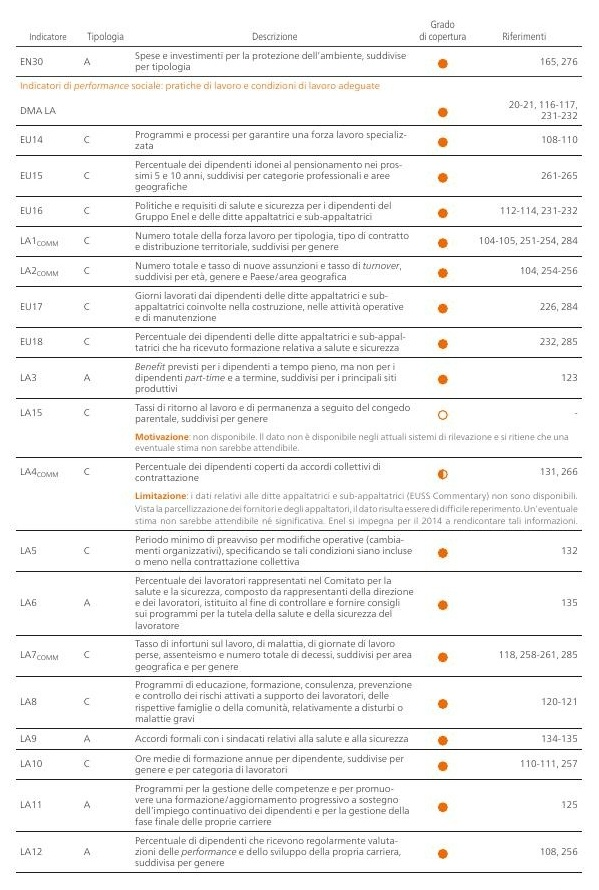table: (0, 0, 599, 890)
